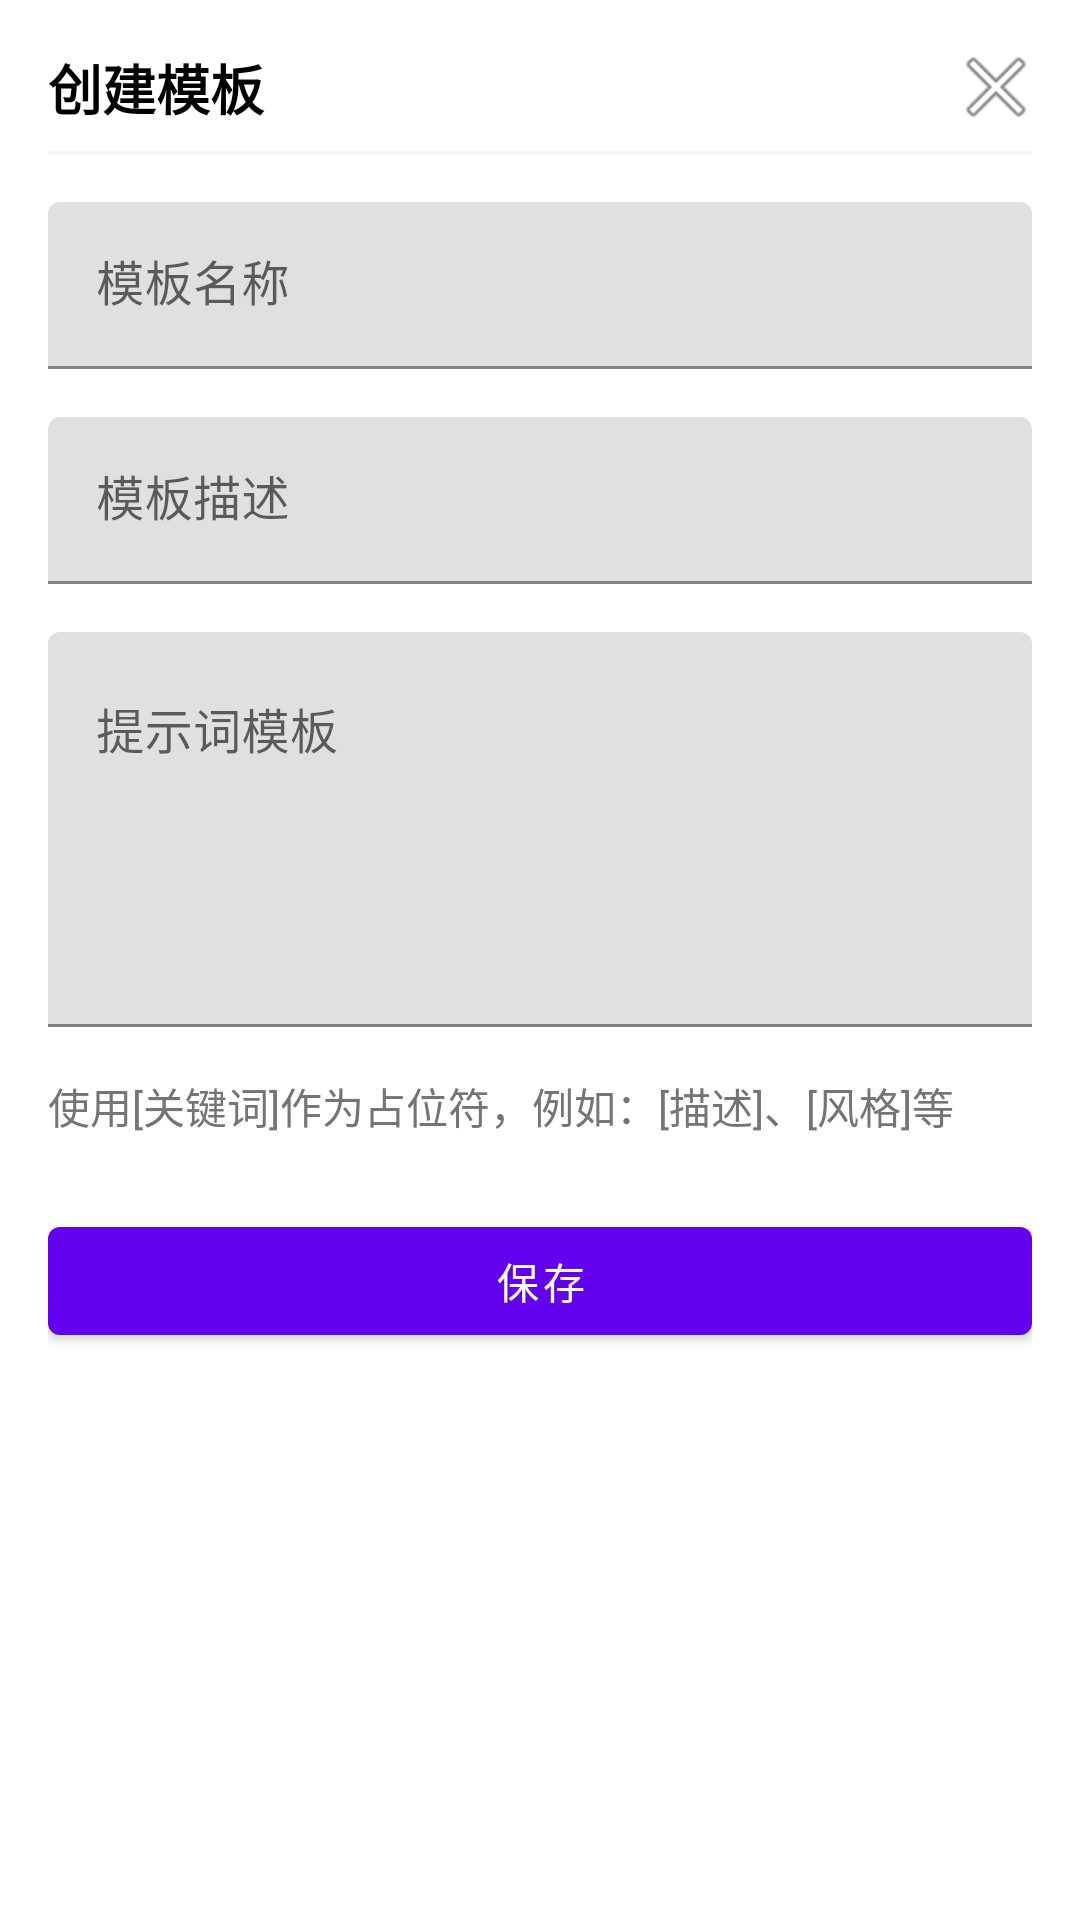

Named icons in this screenshot (1080×1920) and their bounding boxes, (x1, y1, x2, y2):
关闭: (966, 57, 1026, 117)
